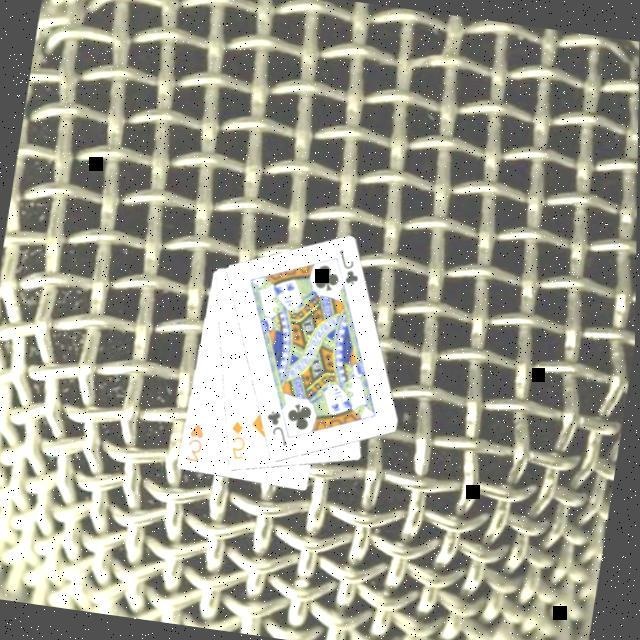3H: (182, 422, 209, 468)
5D: (223, 419, 252, 466)
JC: (259, 408, 295, 452), (330, 247, 366, 291)
